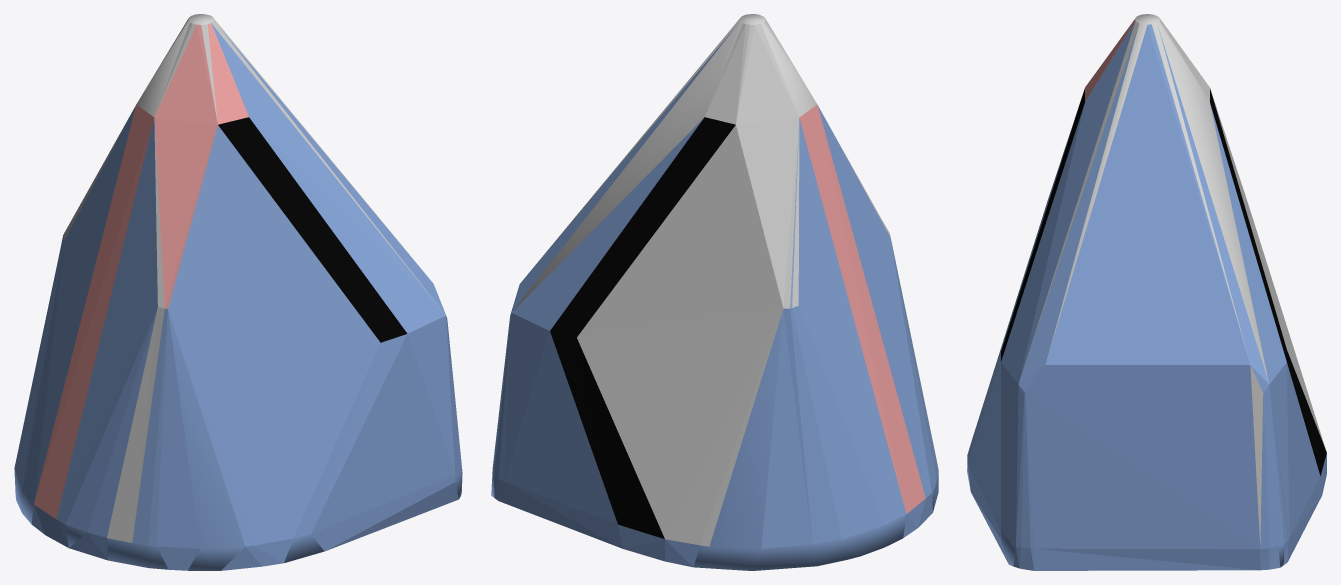
The model's file is extruder_collision.dae.
3 views of the same model, side by side, from view 1: azimuth 30°, elevation 25°; view 2: azimuth 150°, elevation 25°; view 3: azimuth 270°, elevation 25° (orthographic). The views are drawn at different scales.
Visible parts, largest first — view 1: Object.011; view 2: Object.011; view 3: Object.011.
Boxes of the visible parts, bbox=[...] form: Object.011: bbox=[14, 14, 462, 570]; Object.011: bbox=[491, 14, 938, 570]; Object.011: bbox=[967, 14, 1326, 570].
Size of the model in its own units: 0.1355 by 0.1212 by 0.175.
